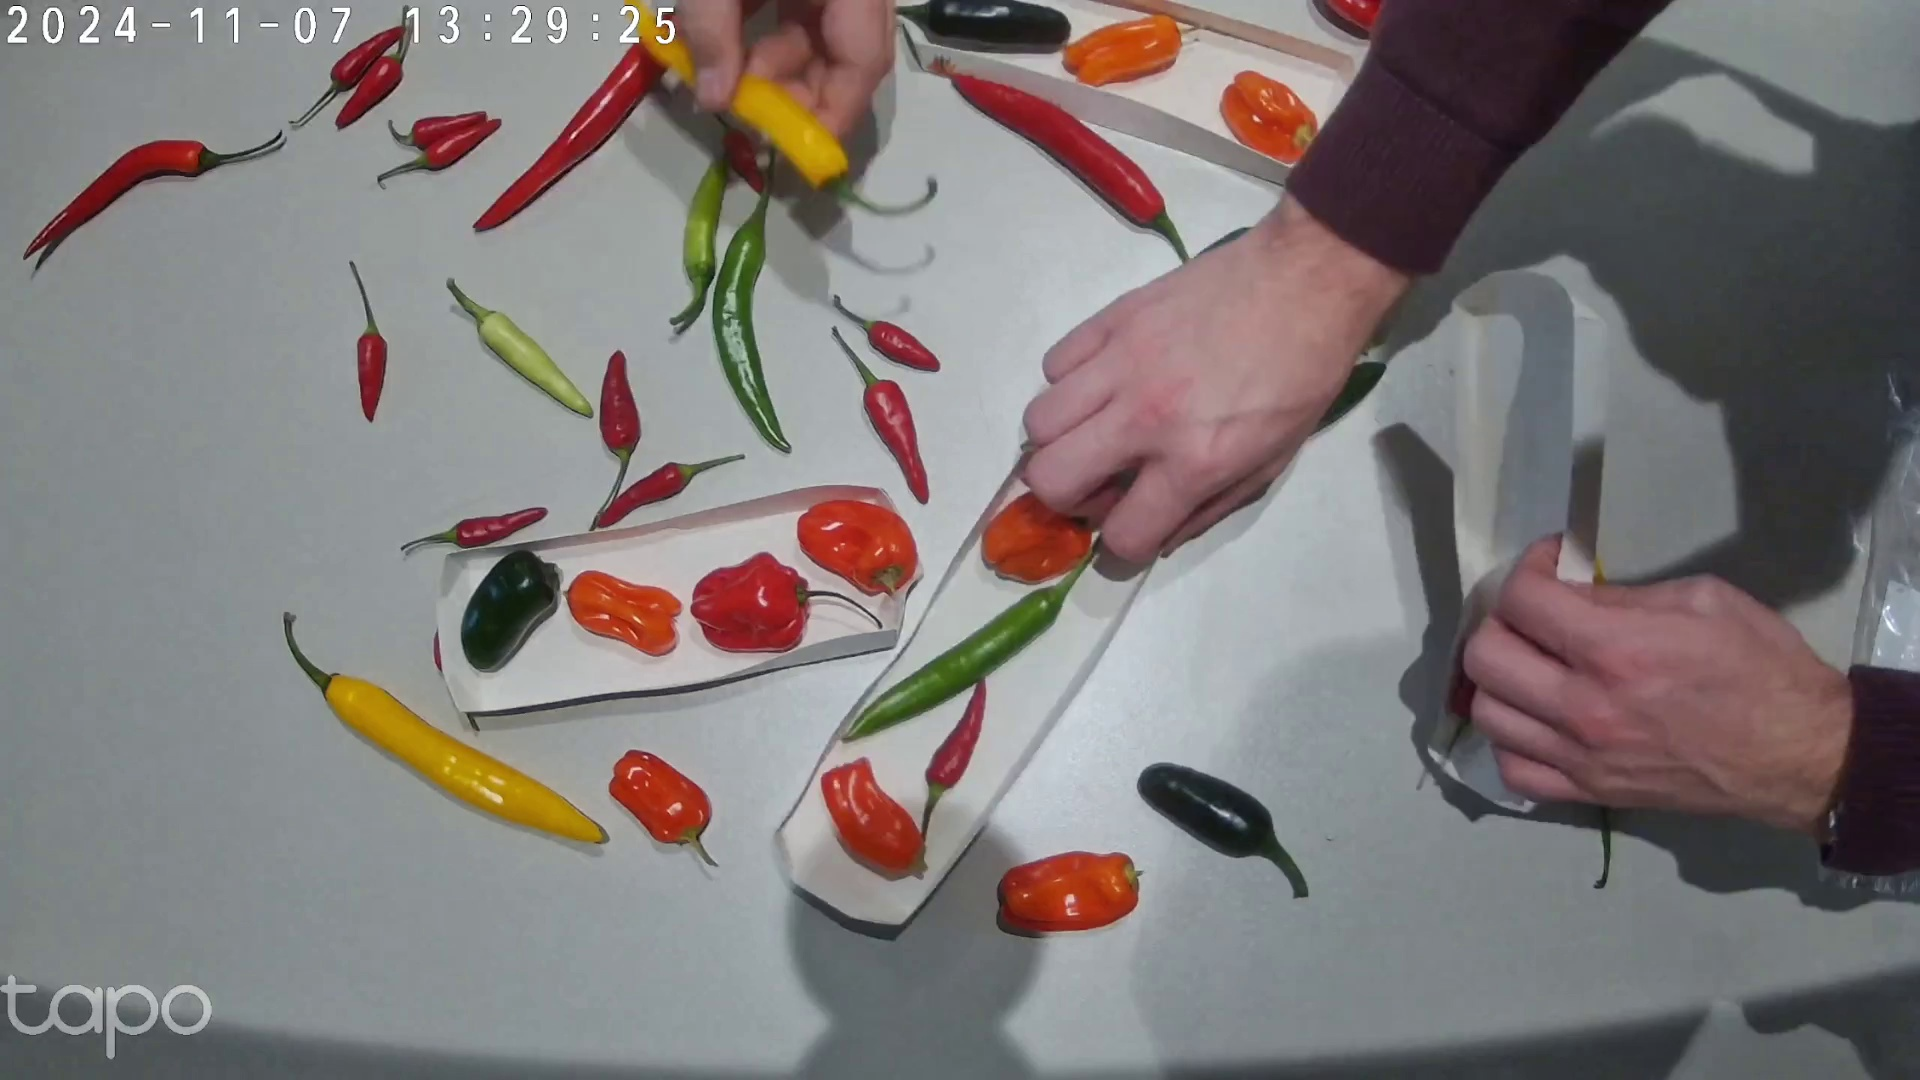Habanero_Pepper_Red: (684, 550, 884, 653)
Jalapeno_Green: (1135, 764, 1311, 895), (459, 551, 560, 673)
Leon_Orange: (609, 749, 720, 865), (824, 761, 936, 874), (1001, 489, 1134, 583), (796, 500, 918, 596), (1001, 849, 1143, 931), (563, 571, 682, 655), (1063, 17, 1201, 86), (1221, 70, 1319, 164)
Rawit_Green: (446, 276, 593, 419)
Rawit_Red: (831, 324, 930, 504), (600, 454, 745, 529), (930, 680, 994, 843), (376, 117, 504, 191), (832, 293, 942, 373), (334, 17, 413, 127), (596, 348, 641, 516), (348, 258, 388, 423), (400, 506, 549, 550), (385, 111, 488, 149)
Spanish_Pepper_Green: (844, 514, 1139, 740), (712, 150, 791, 456), (667, 156, 729, 326)
Spanish_Pepper_Red: (945, 70, 1189, 264), (24, 128, 282, 261)
Spanish_Pepper_Yellow: (284, 611, 608, 847)
